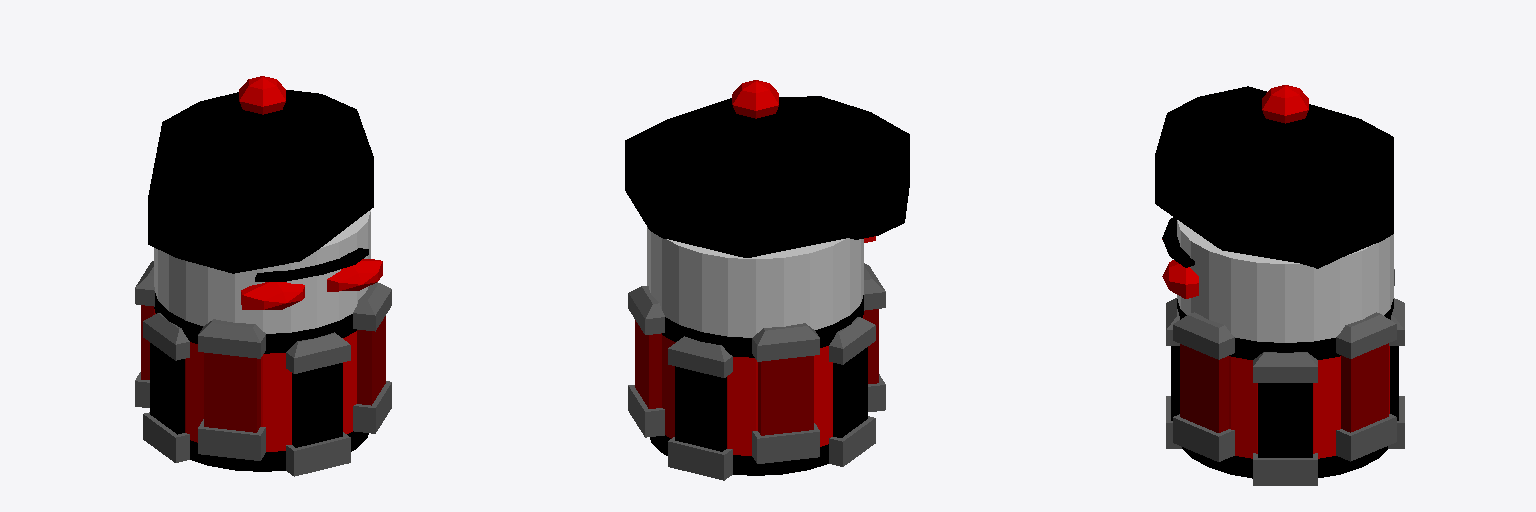
The model's file is Character8.obj.
The picture shows the model from 3 angles: view 1: azimuth 30°, elevation 25°; view 2: azimuth 150°, elevation 25°; view 3: azimuth 270°, elevation 25°; orthographic projection.
Size of the model in its own units: 1.3 by 1.77 by 1.15.